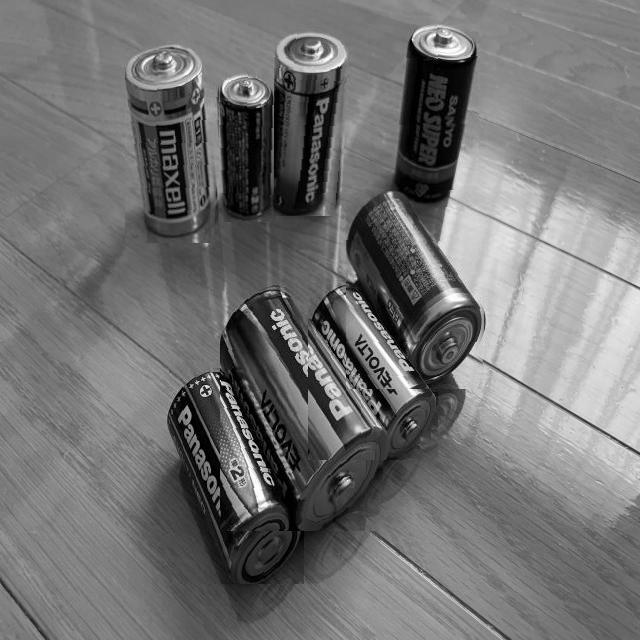battery: (220, 282, 392, 532), (162, 361, 304, 584), (346, 190, 488, 390), (308, 278, 438, 460), (125, 42, 224, 244), (386, 24, 479, 210), (274, 28, 351, 216), (219, 68, 279, 222)
